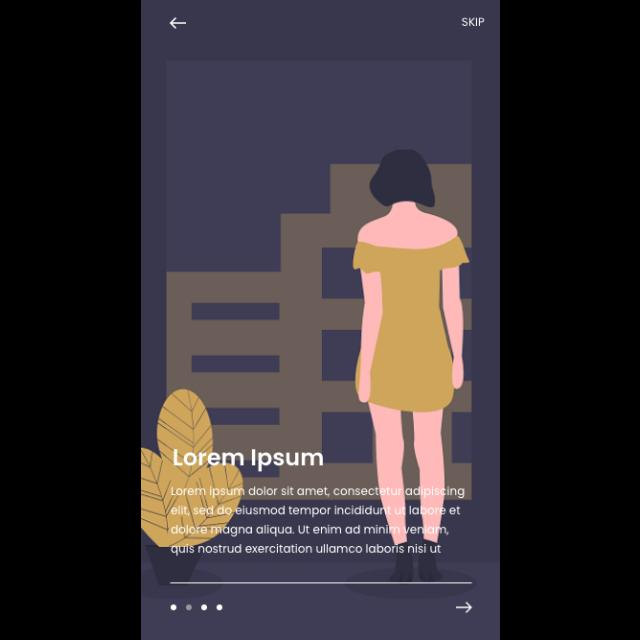backgroundimage: (141, 1, 499, 640)
icon: (456, 600, 472, 614), (168, 18, 186, 30)
pageindicator: (170, 604, 223, 610)
text: (170, 486, 464, 556), (173, 450, 323, 472), (462, 18, 484, 28)
